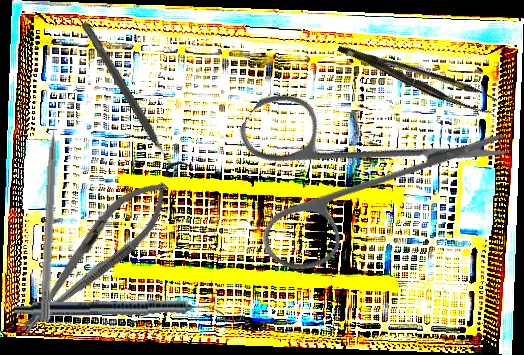Fixation Ring: (71, 15, 191, 181)
Handpiece: (13, 298, 225, 321)
Iris Scissors: (189, 9, 514, 333)
Needle Holder: (4, 165, 183, 349)
Pusher: (39, 105, 63, 323)
Tissue Forceps: (336, 26, 499, 124)
